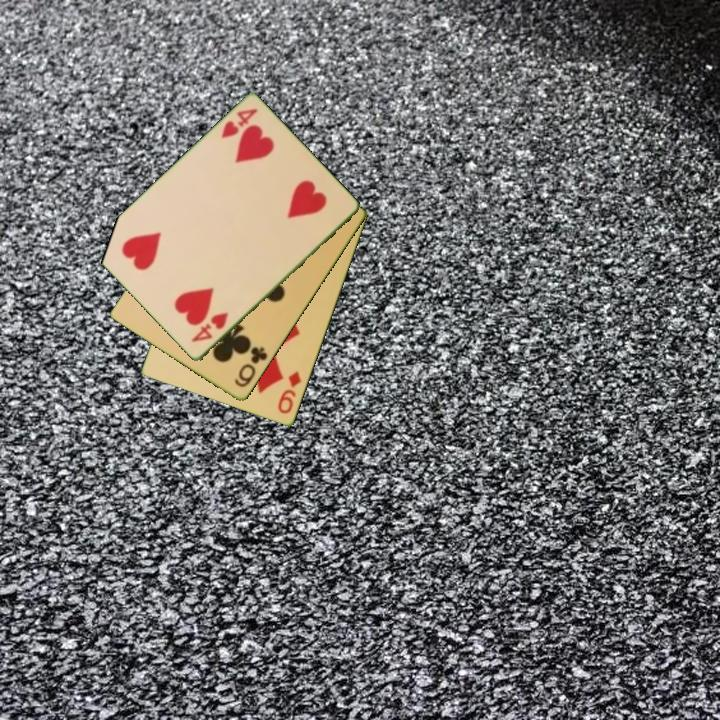4h: (188, 309, 232, 346), (218, 105, 261, 142)
6c: (231, 343, 271, 391)
9d: (274, 368, 305, 417)
